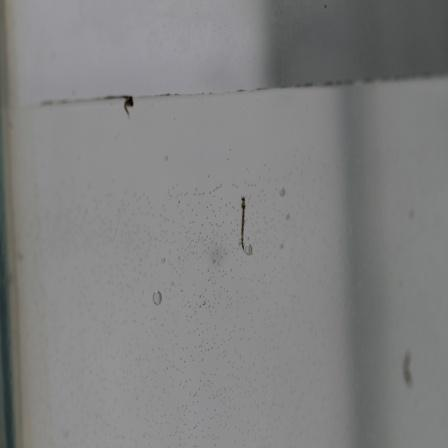Jentik-Nyamuk: (238, 193, 251, 251), (120, 96, 138, 117)
